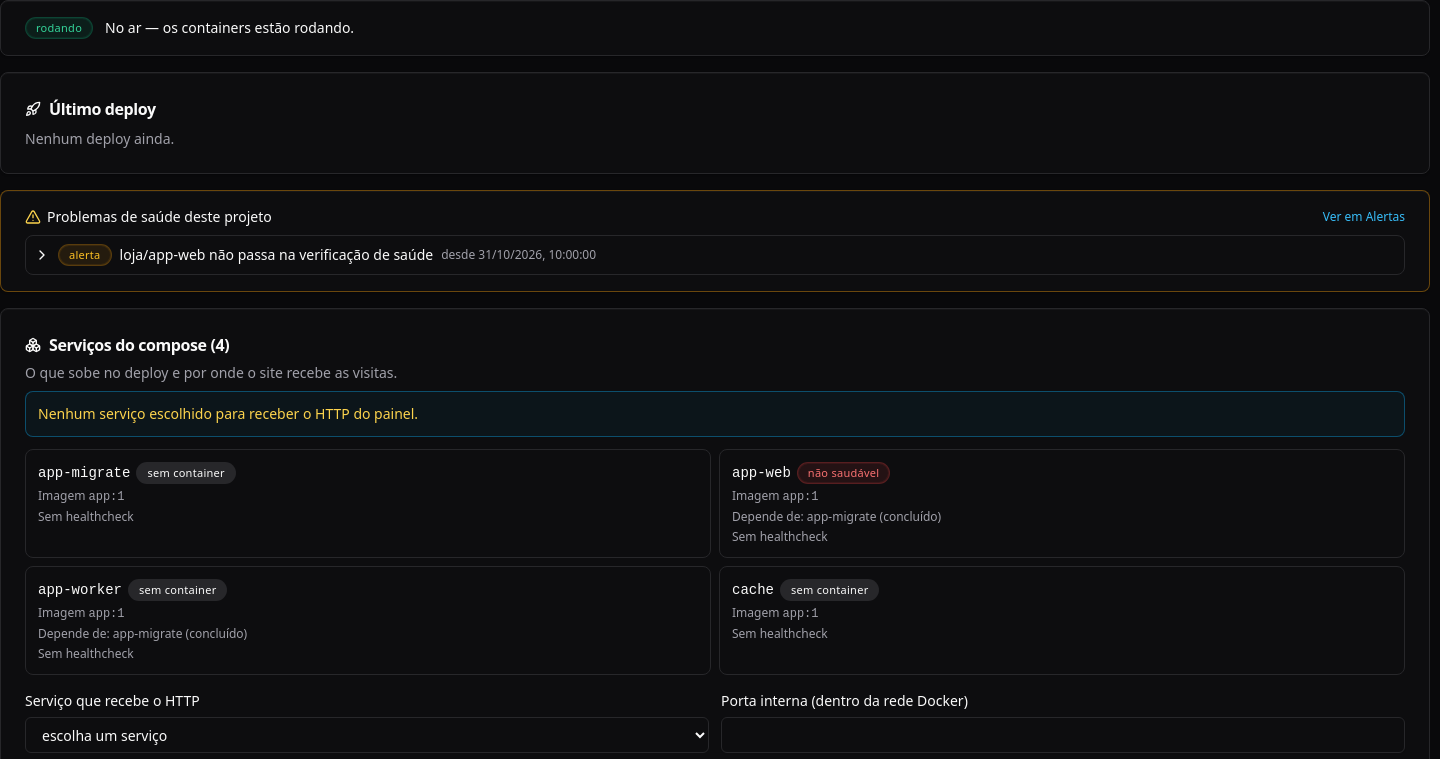
Test: Visão geral › alertas abertos do projeto aparecem com o detalhe e o atalho para Alertas
Expected: the element with test id "overview-alert-a1" shows "não passa na verificação de saúde", [120,245,433,264]
Step 1. Click the heading → (315, 255), box [34,244,596,266]
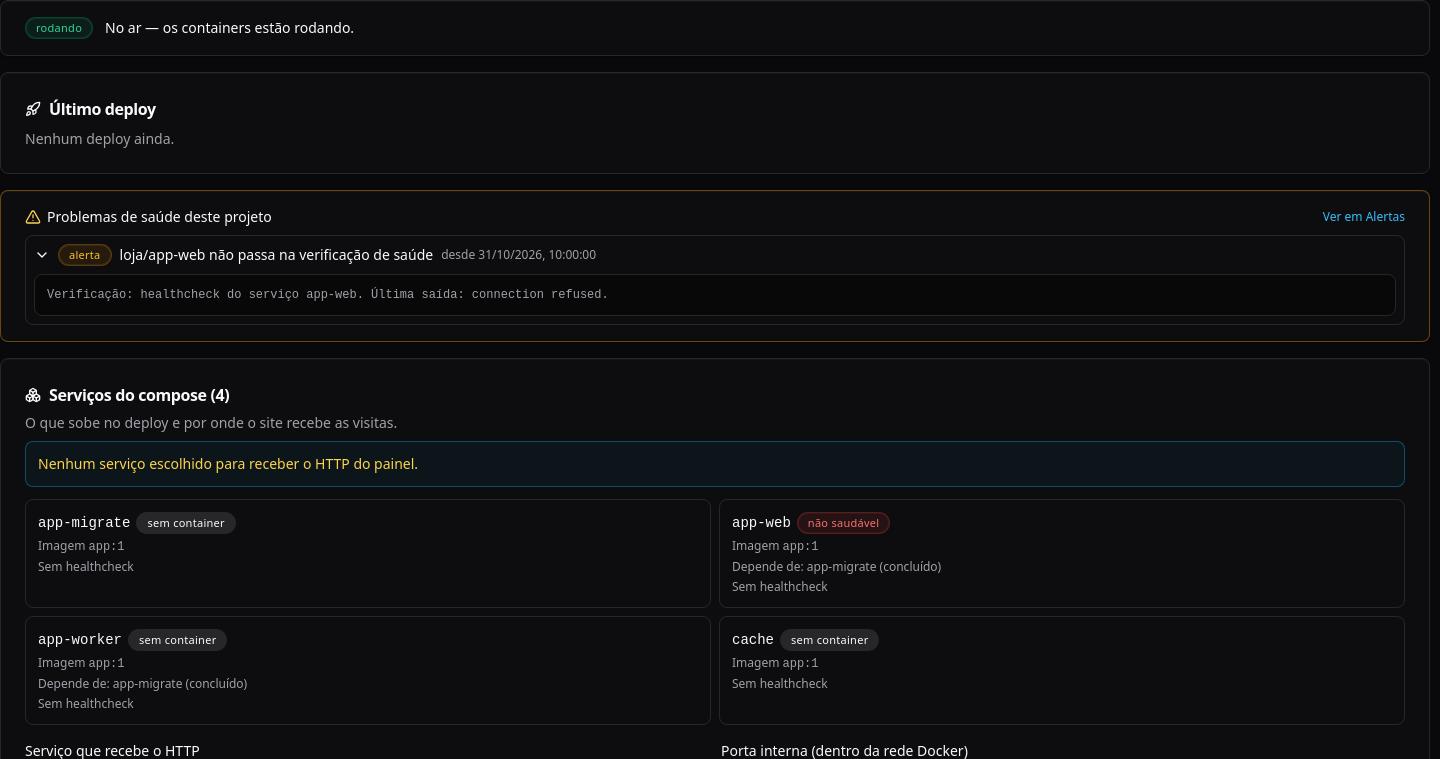
Result: the element with test id "overview-alert-a1" shows "connection refused" at [47,288,609,302]
